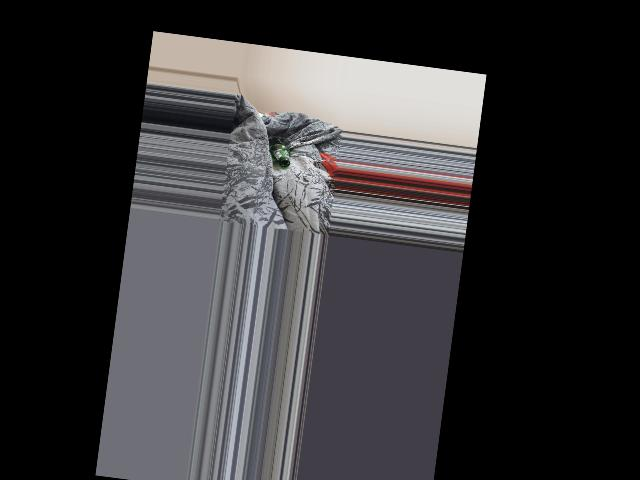beer: (267, 138, 292, 167)
